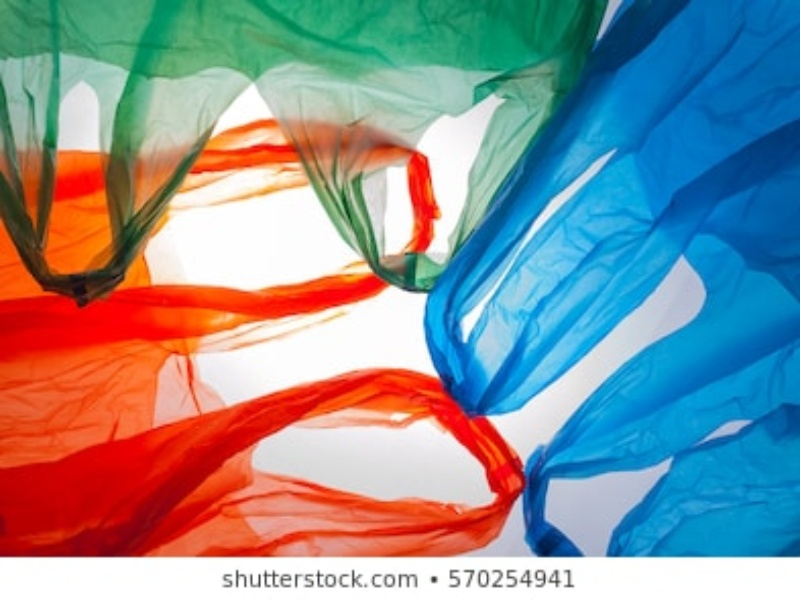plastic-bag: (2, 123, 528, 563), (422, 9, 800, 561), (1, 1, 609, 298)
